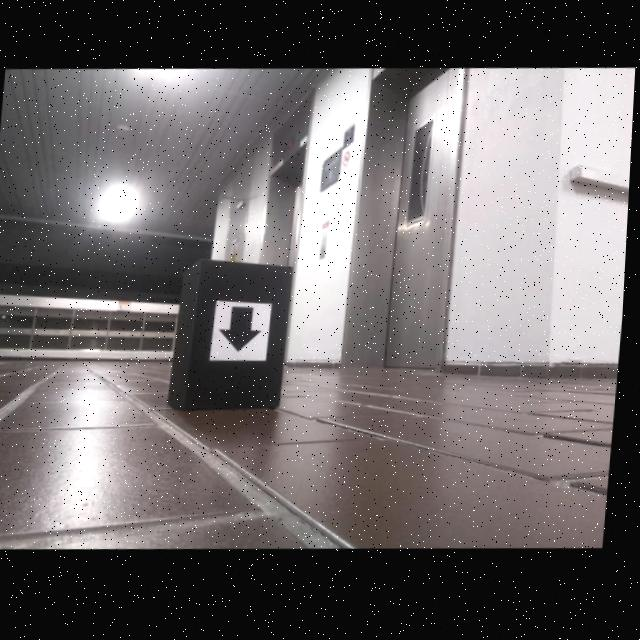DOWN: (221, 308, 265, 354)
